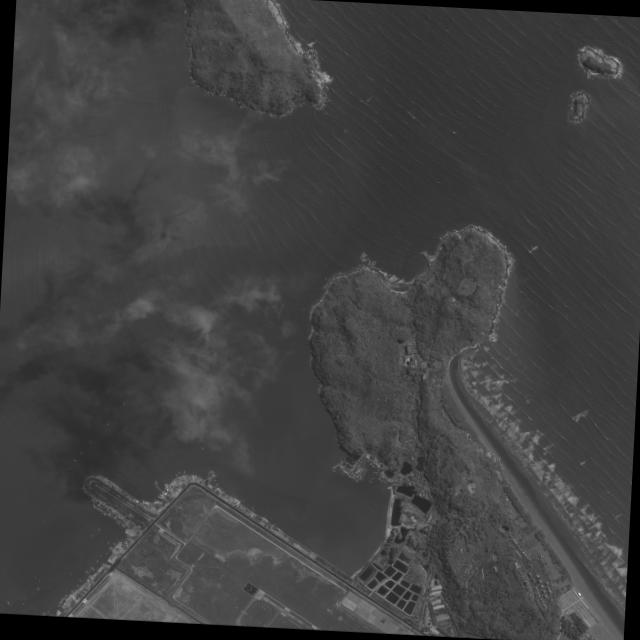ship: (386, 485, 393, 489), (90, 566, 95, 569), (64, 594, 68, 597), (155, 480, 158, 484), (183, 469, 186, 473), (174, 473, 178, 476), (115, 518, 118, 522), (113, 514, 116, 518), (114, 515, 117, 519), (68, 464, 70, 469), (74, 459, 79, 461), (55, 604, 60, 606), (120, 409, 122, 414), (79, 578, 82, 581), (178, 470, 181, 473), (115, 517, 118, 520), (109, 513, 112, 516), (92, 503, 95, 506), (94, 505, 97, 508), (95, 506, 98, 509), (113, 542, 117, 544), (98, 527, 100, 531), (61, 597, 65, 599), (59, 600, 63, 602), (123, 400, 125, 404), (106, 420, 108, 424), (102, 509, 104, 513), (104, 511, 106, 515), (73, 588, 76, 590), (71, 589, 74, 591), (109, 547, 112, 549), (117, 537, 119, 540), (111, 546, 114, 548), (106, 551, 108, 554), (86, 570, 88, 573), (77, 583, 79, 586), (74, 586, 77, 588), (61, 598, 63, 601), (59, 601, 62, 603), (34, 575, 36, 578), (7, 601, 9, 604), (71, 572, 73, 575), (97, 559, 99, 562), (107, 541, 110, 543), (167, 481, 170, 483), (98, 507, 100, 510), (101, 508, 103, 511), (93, 505, 96, 507), (96, 506, 98, 509), (121, 523, 124, 525), (115, 516, 117, 519), (22, 602, 24, 604), (37, 587, 39, 589), (92, 534, 94, 536), (90, 439, 91, 443), (107, 512, 108, 516), (97, 507, 99, 509), (100, 507, 101, 511), (113, 544, 116, 545), (109, 547, 112, 548), (58, 604, 61, 605), (81, 450, 82, 453)
